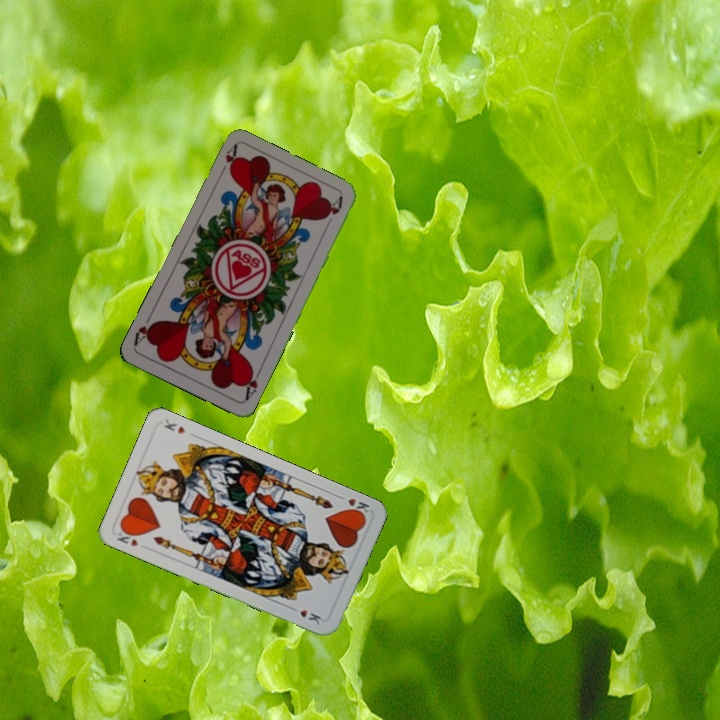HA: (215, 142, 240, 180), (240, 364, 264, 403)
HK: (334, 491, 372, 519), (113, 525, 141, 549)
